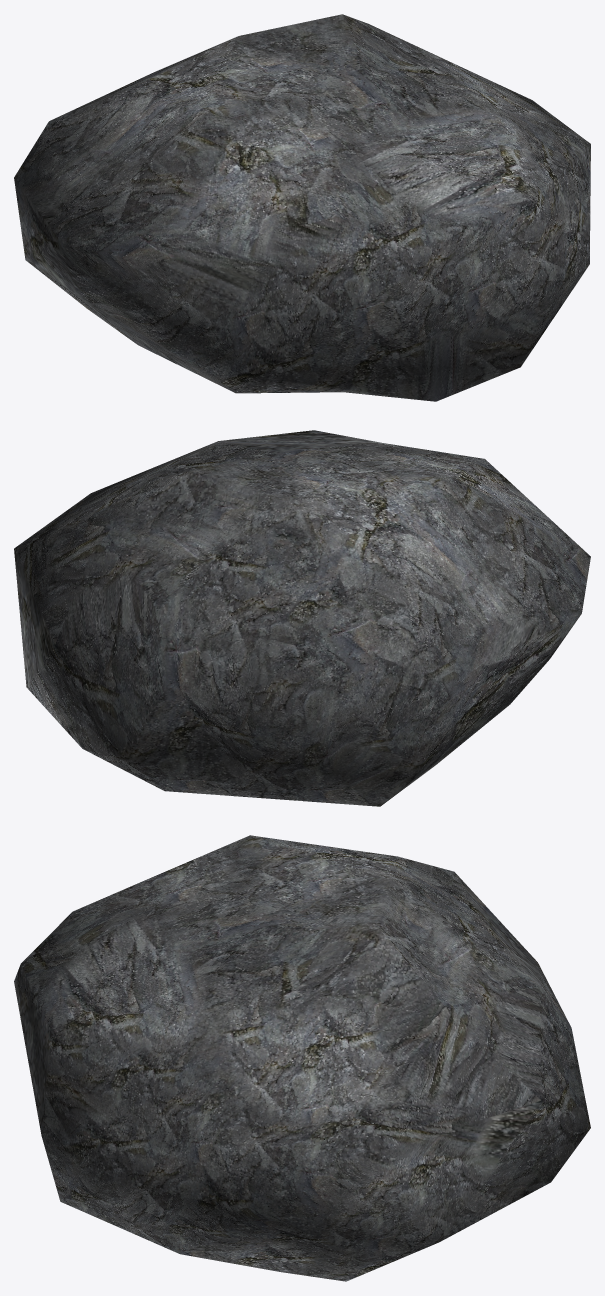
File: rock_model.glb
The picture shows the model from 3 angles, top to bottom: view 1: azimuth 30°, elevation 25°; view 2: azimuth 150°, elevation 25°; view 3: azimuth 270°, elevation 25°; orthographic projection. The views are drawn at different scales.
Parts seen in each view (by area): view 1: Low Poly; view 2: Low Poly; view 3: Low Poly.
Part boxes in pixels (x1,y1,x2,y2): Low Poly: (14, 14, 590, 401); Low Poly: (14, 430, 590, 806); Low Poly: (14, 835, 590, 1281).
Size of the model in its own units: 3.13 by 1.75 by 2.84.
Materials: 1 (1 with a texture image).
